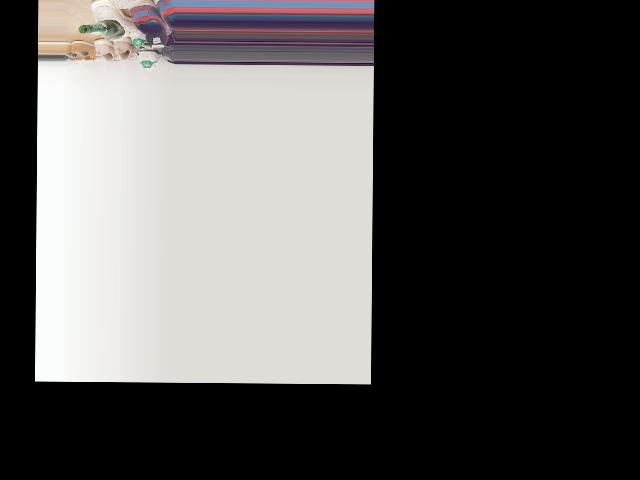beer: (78, 19, 124, 36)
